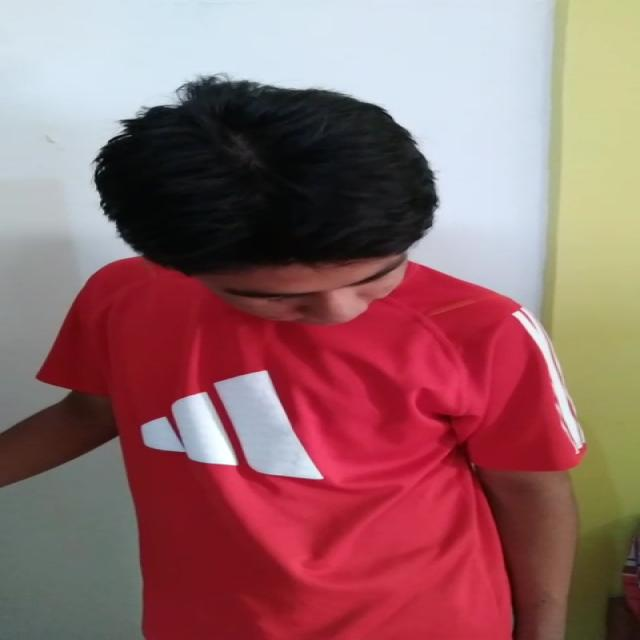9_cabeza_baja: (96, 79, 436, 323)
